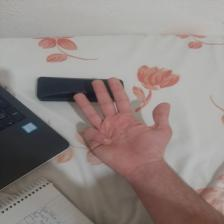five: (69, 76, 179, 176)
